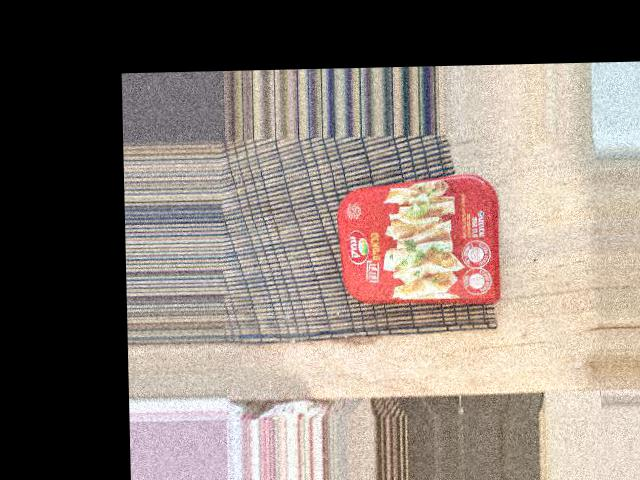cheese: (270, 127, 409, 299)
